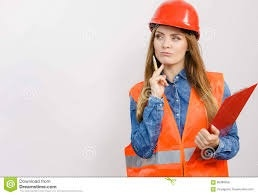helmet: (150, 1, 205, 32)
person with full safety: (131, 1, 236, 175)
safety vest: (131, 72, 231, 174)
